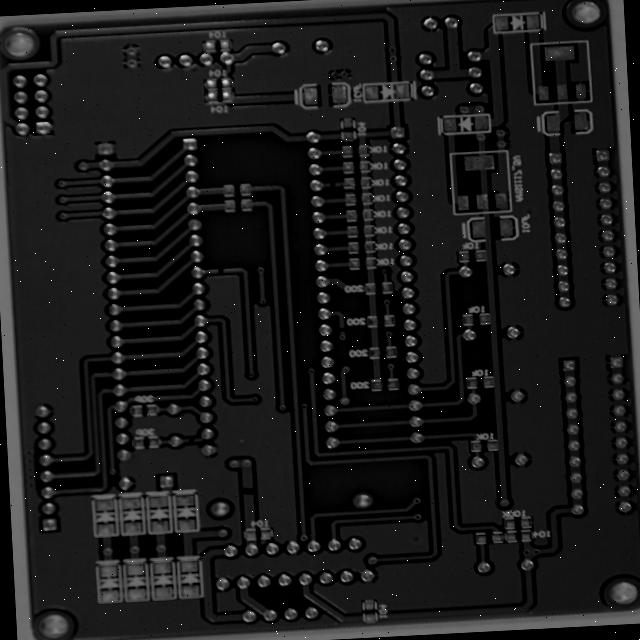open_circuit: (249, 495, 266, 512), (349, 331, 364, 343), (340, 183, 353, 195), (191, 446, 206, 456), (223, 273, 237, 282)
